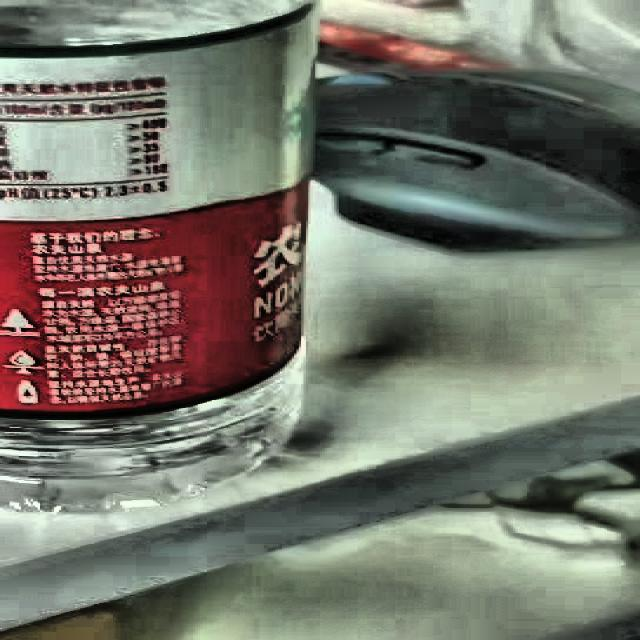plastic: (0, 0, 329, 513)
